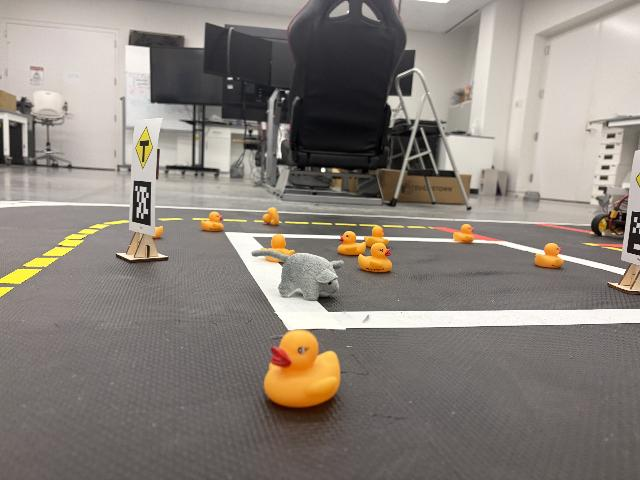duck: (260, 326, 341, 417), (358, 242, 392, 273), (265, 236, 296, 264), (337, 230, 366, 257), (534, 242, 564, 268), (363, 225, 390, 247), (200, 212, 225, 235), (453, 223, 475, 244), (262, 207, 281, 227)
mouse: (249, 249, 341, 305)
redline: (535, 221, 594, 238), (593, 238, 625, 248), (433, 223, 453, 236), (477, 233, 500, 240)
t_intersection: (119, 117, 168, 264)
whiteline: (343, 307, 640, 330), (276, 307, 342, 328), (564, 254, 621, 278), (229, 236, 260, 253), (505, 239, 533, 257), (585, 242, 622, 254), (392, 238, 452, 242)
yellowline: (1, 225, 116, 299), (283, 219, 432, 230), (226, 216, 261, 227), (170, 215, 199, 224)
